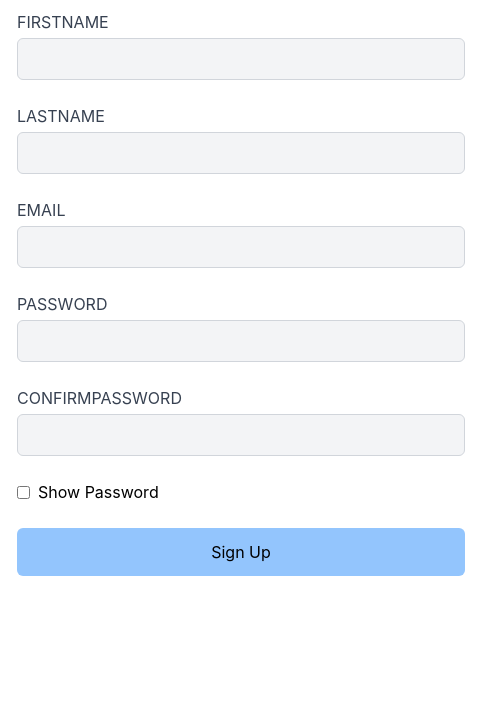
Test: validation error message is shown when form is submitted with invalid email
The image size is (483, 714).
Type "Test!!" into the field with test id "email" at [241, 247], box x1=17 y1=226 x2=465 y2=268
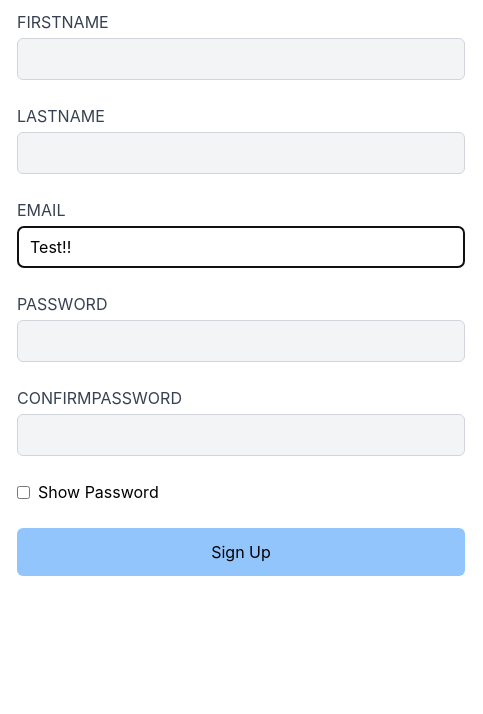
Click the button with test id "signupbutton" at [241, 552], box x1=17 y1=528 x2=465 y2=576
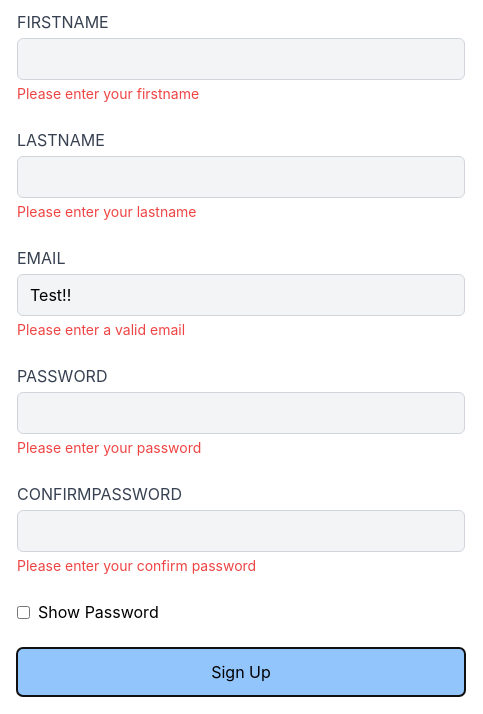
Expected: the text "Please enter a valid email" is shown, x1=17 y1=321 x2=185 y2=338
